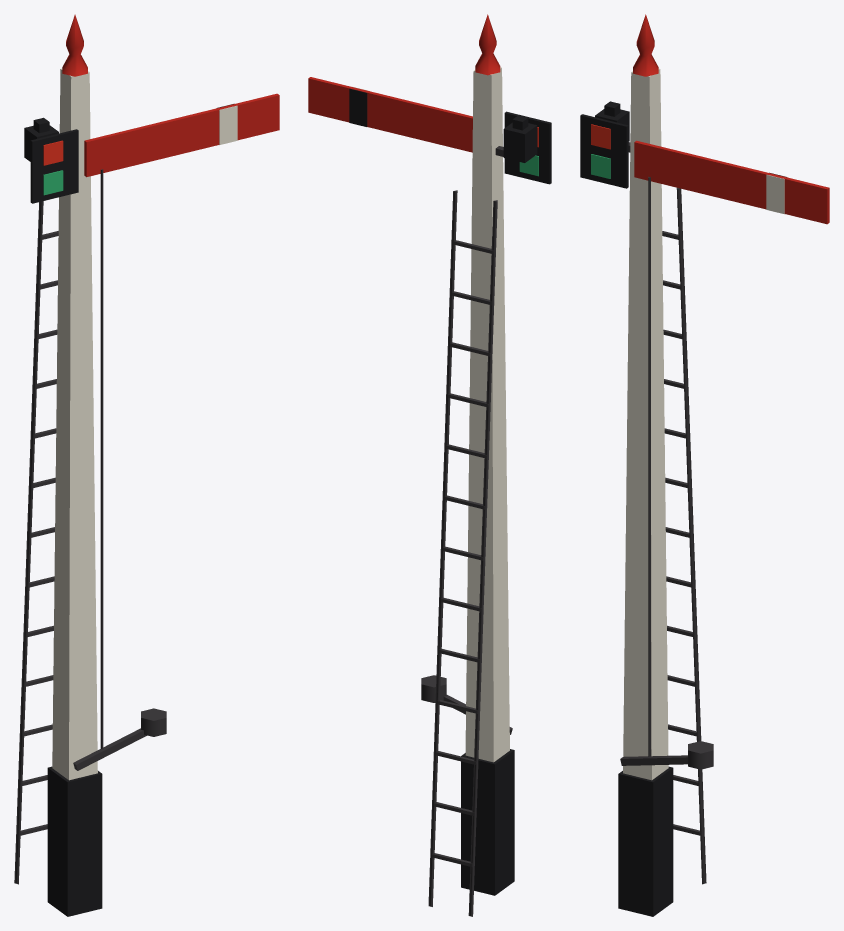
File: signal_semaphore.glb
The picture shows the model from 3 angles, left to right: view 1: azimuth 30°, elevation 25°; view 2: azimuth 150°, elevation 25°; view 3: azimuth 330°, elevation 25°; orthographic projection. The views are drawn at different scales.
Parts seen in each view (by area): view 1: Body, Arm; view 2: Body, Arm; view 3: Body, Arm.
Part boxes in pixels (<box>): Body: <box>14,14,166,916</box>; Arm: <box>30,93,279,203</box>; Body: <box>421,14,537,916</box>; Arm: <box>308,77,551,184</box>; Body: <box>595,14,713,916</box>; Arm: <box>580,114,829,224</box>.
Bounding box in the file's own units: 1.92 × 6.62 × 0.7566.
